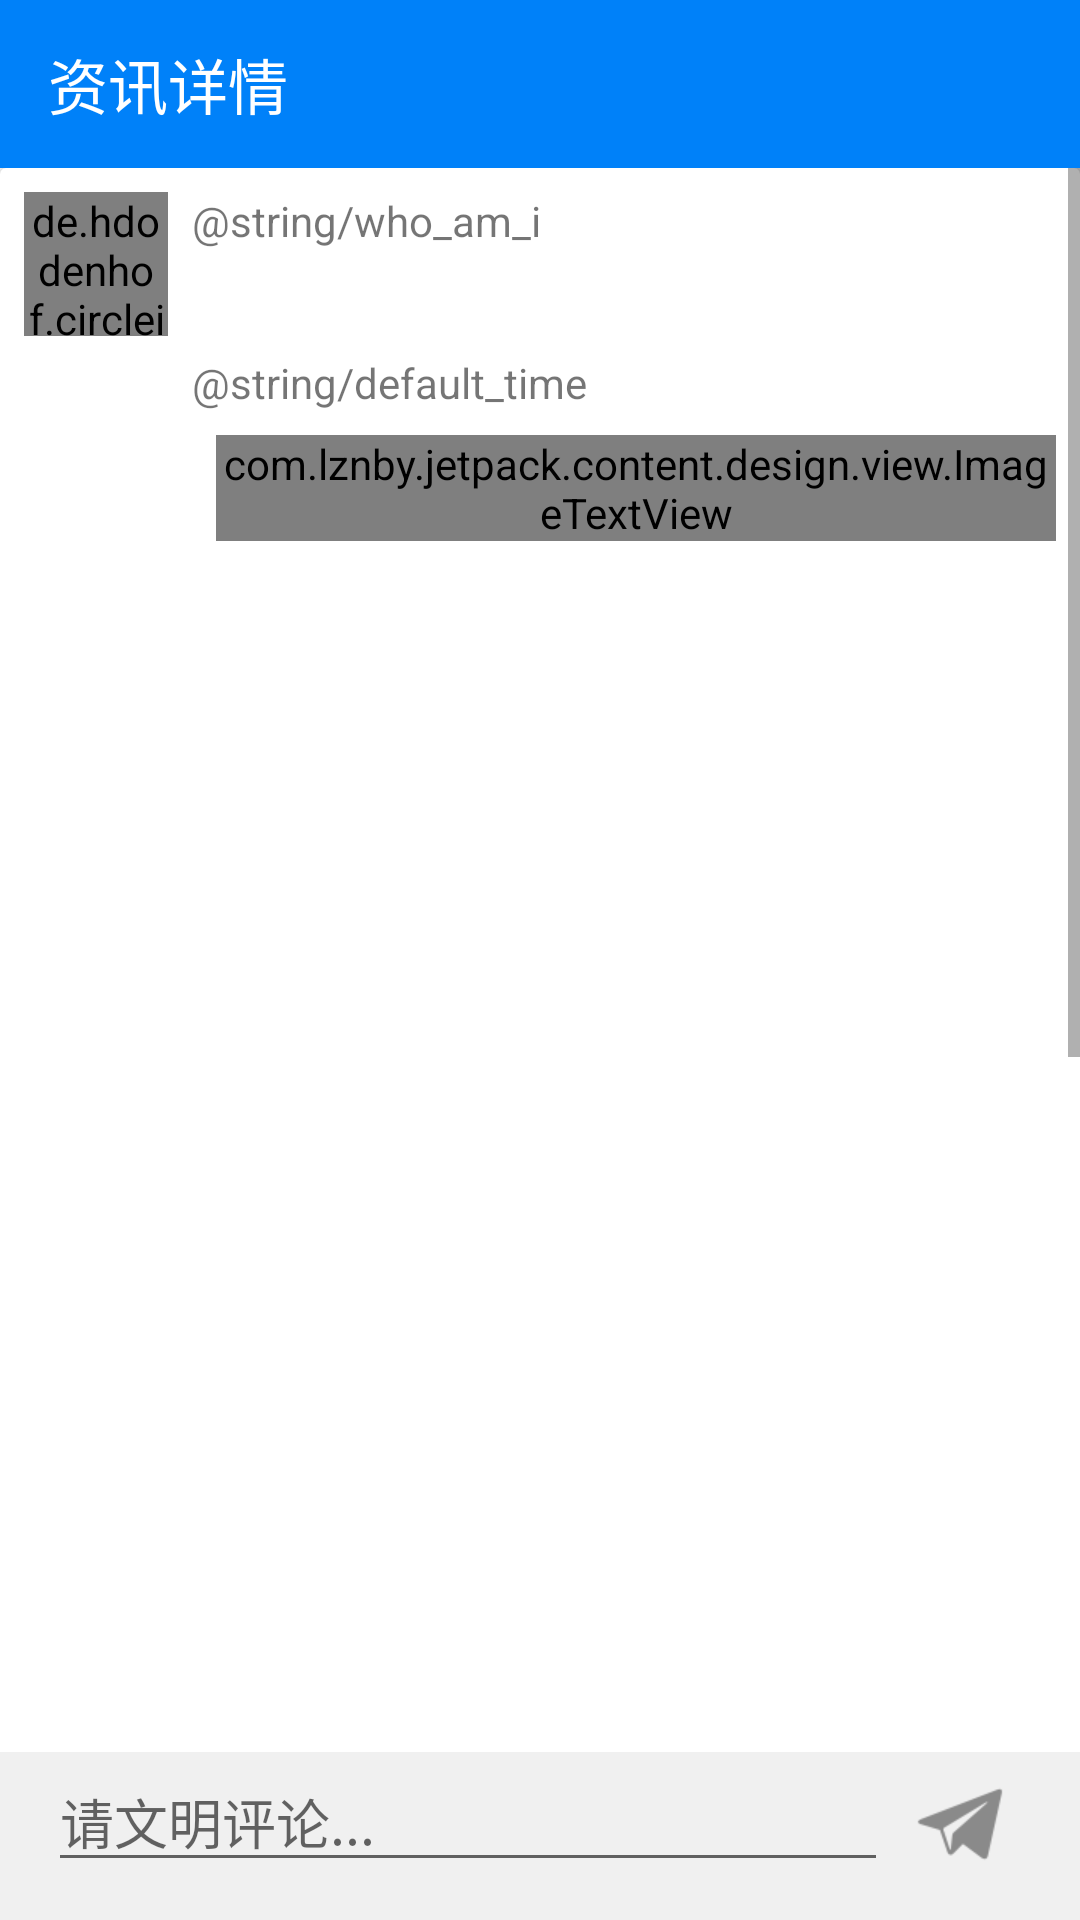

Named icons in this screenshot (1080*1920) and their centers, (x,y):
send: (960,1824)
